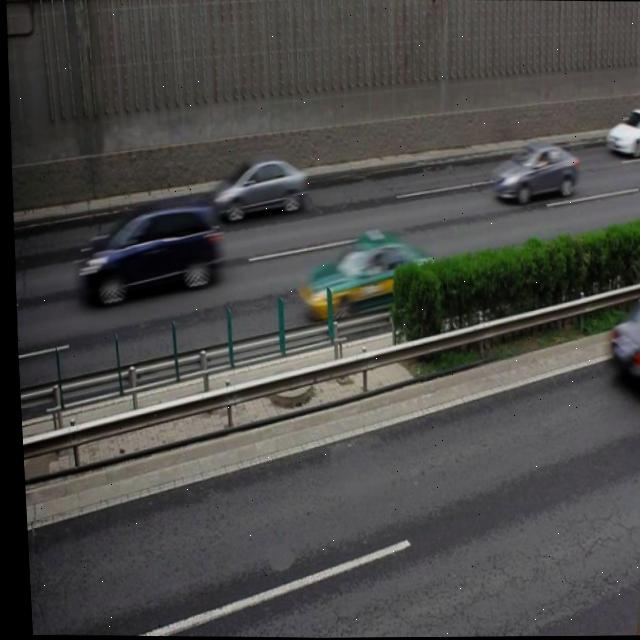car: (78, 204, 216, 305), (294, 227, 434, 321), (208, 157, 303, 224), (488, 143, 575, 205), (600, 298, 640, 397), (600, 104, 640, 160)
